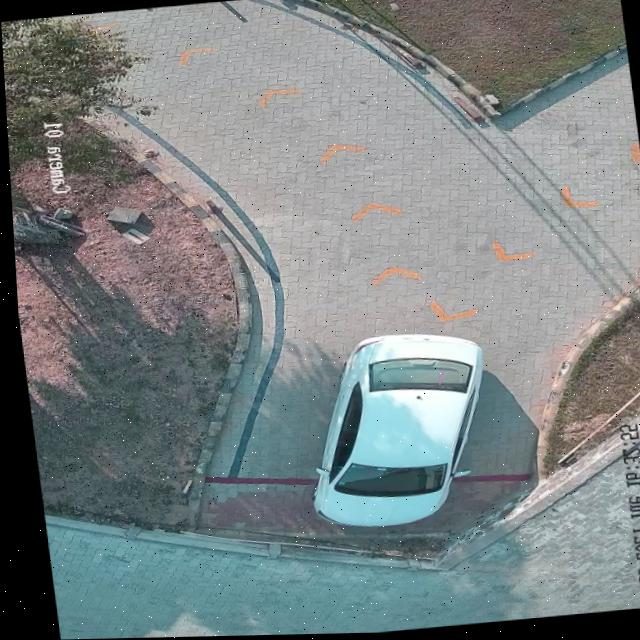car: (303, 335, 478, 530)
